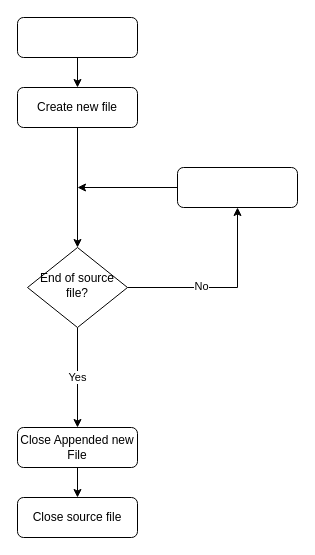
Image size: 315x555. Some labels were removed from this diagram. Each missing label, with the centre of its shape:
Append line as next column to new file: (237,187)
Open source file read line: (77,37)
